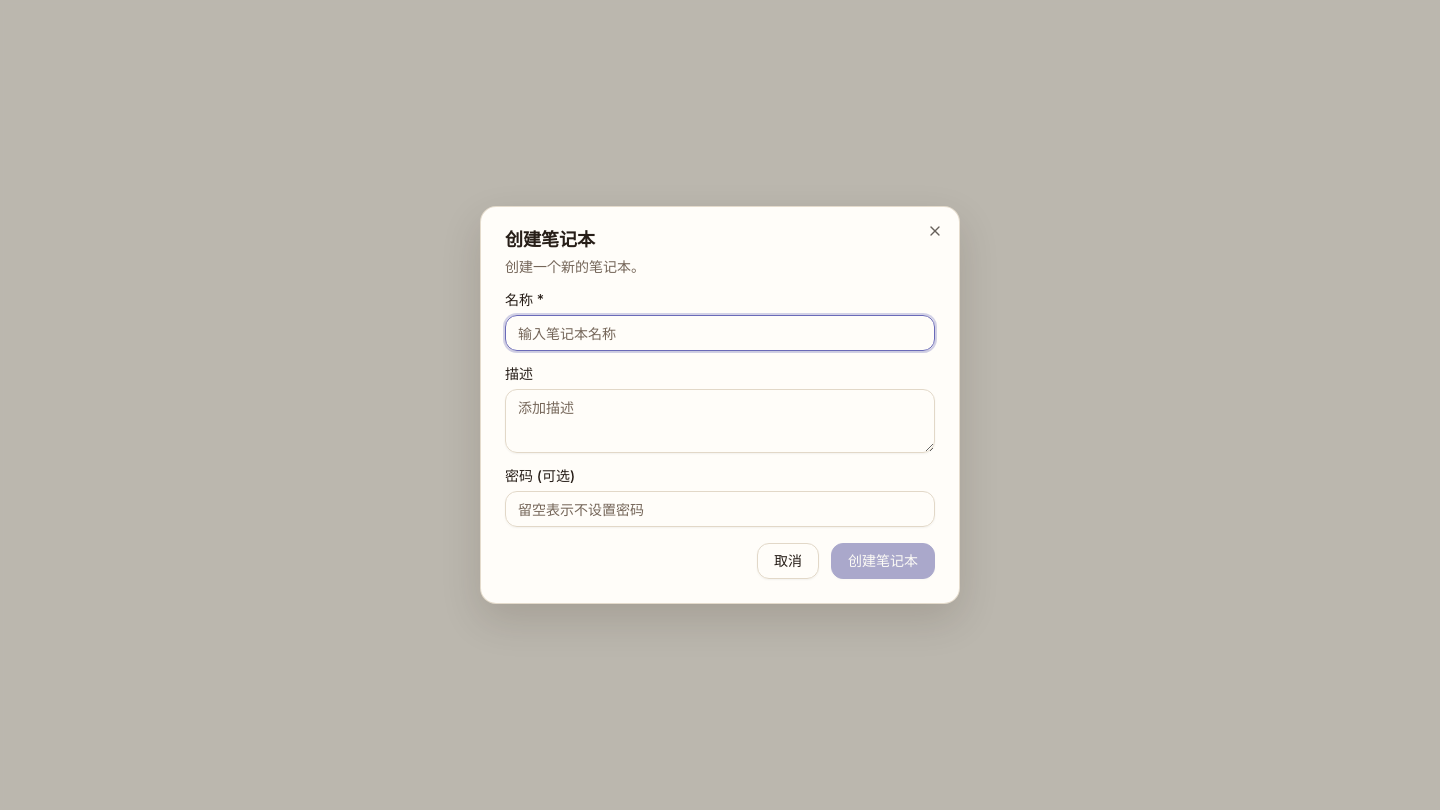
it: CreateNotebookDialog › uses localized validation copy when the notebook name is cleared
In the field labelled "名称 *": coordinates (720, 333) [505, 315, 935, 351], type "临时笔记本"
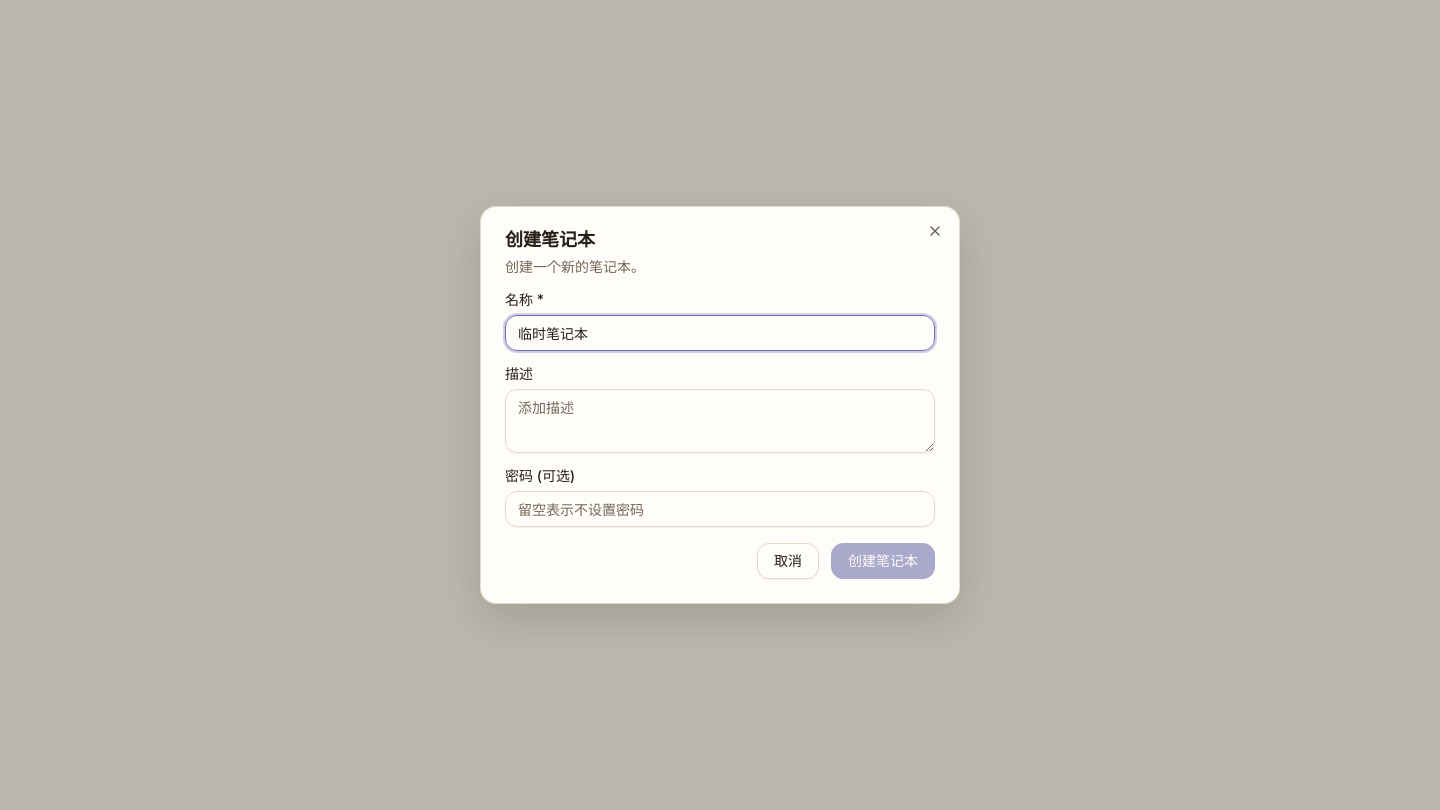
Clear the field labelled "名称 *": coordinates (720, 333) [505, 315, 935, 351]
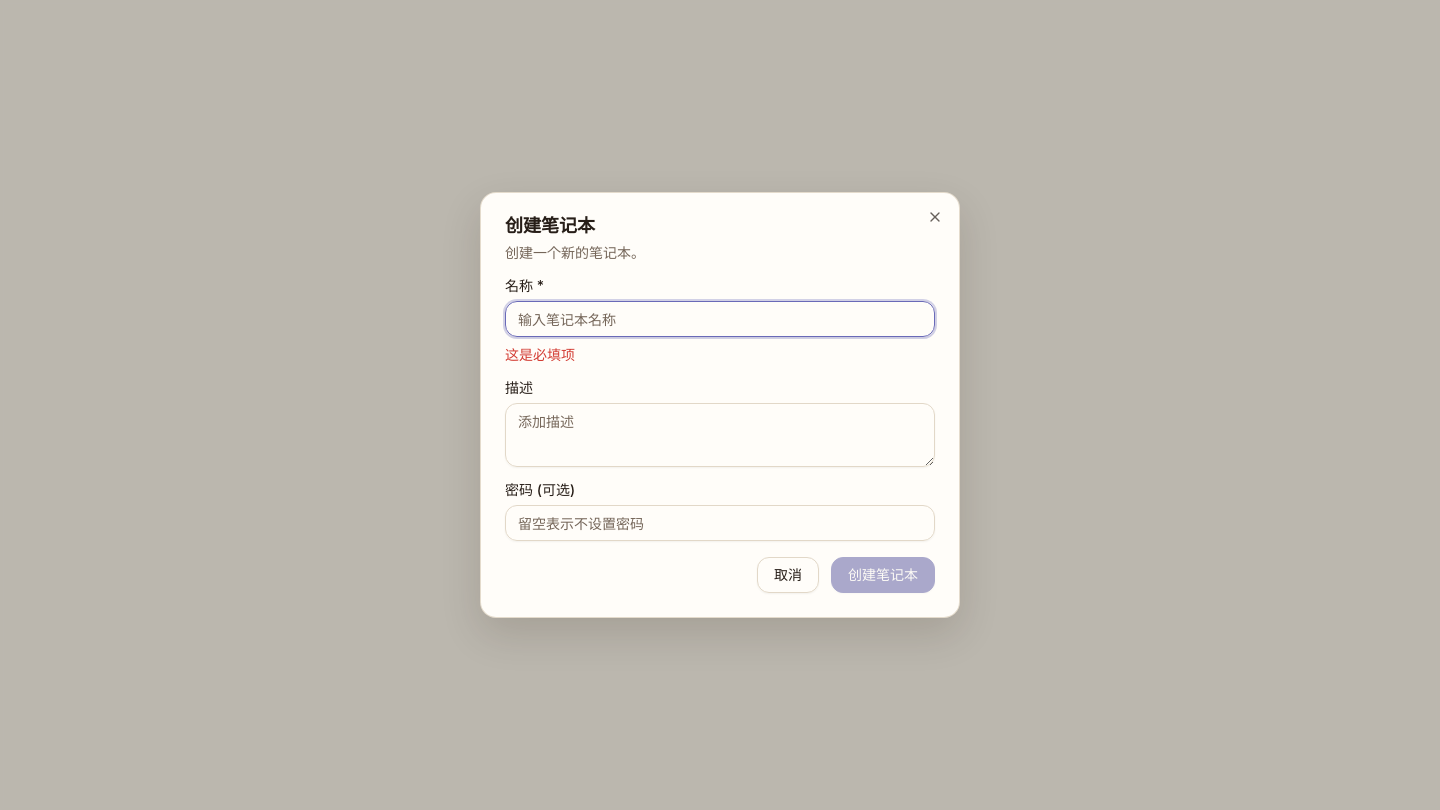
Now the text "这是必填项" is shown, box [505, 346, 575, 363]
